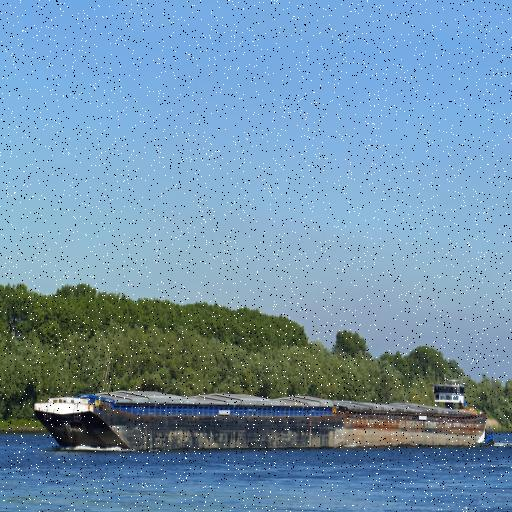tugboat: (407, 369, 502, 454)
